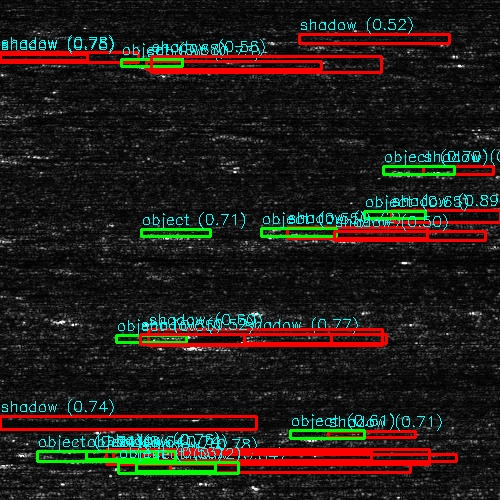rock: (201, 329, 274, 356), (13, 449, 158, 462), (115, 463, 240, 474), (228, 228, 311, 239), (321, 210, 414, 219), (157, 330, 210, 341), (287, 433, 360, 438), (0, 155, 35, 160), (417, 167, 448, 172)
shadow: (0, 410, 238, 435), (238, 329, 447, 356), (86, 449, 447, 462), (178, 463, 400, 474), (270, 228, 464, 239), (368, 210, 499, 219), (324, 433, 475, 438), (184, 330, 250, 341), (0, 56, 130, 61), (0, 155, 119, 160), (433, 167, 500, 172), (0, 483, 43, 488), (0, 313, 7, 318)
